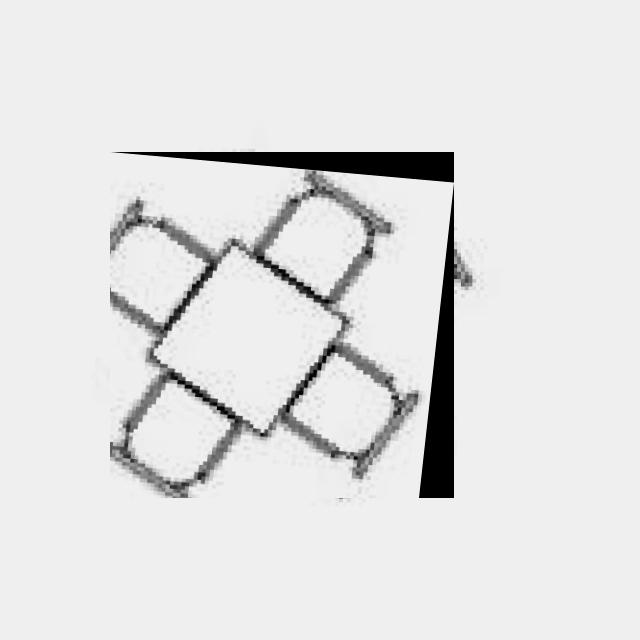table: (110, 152, 454, 498)
